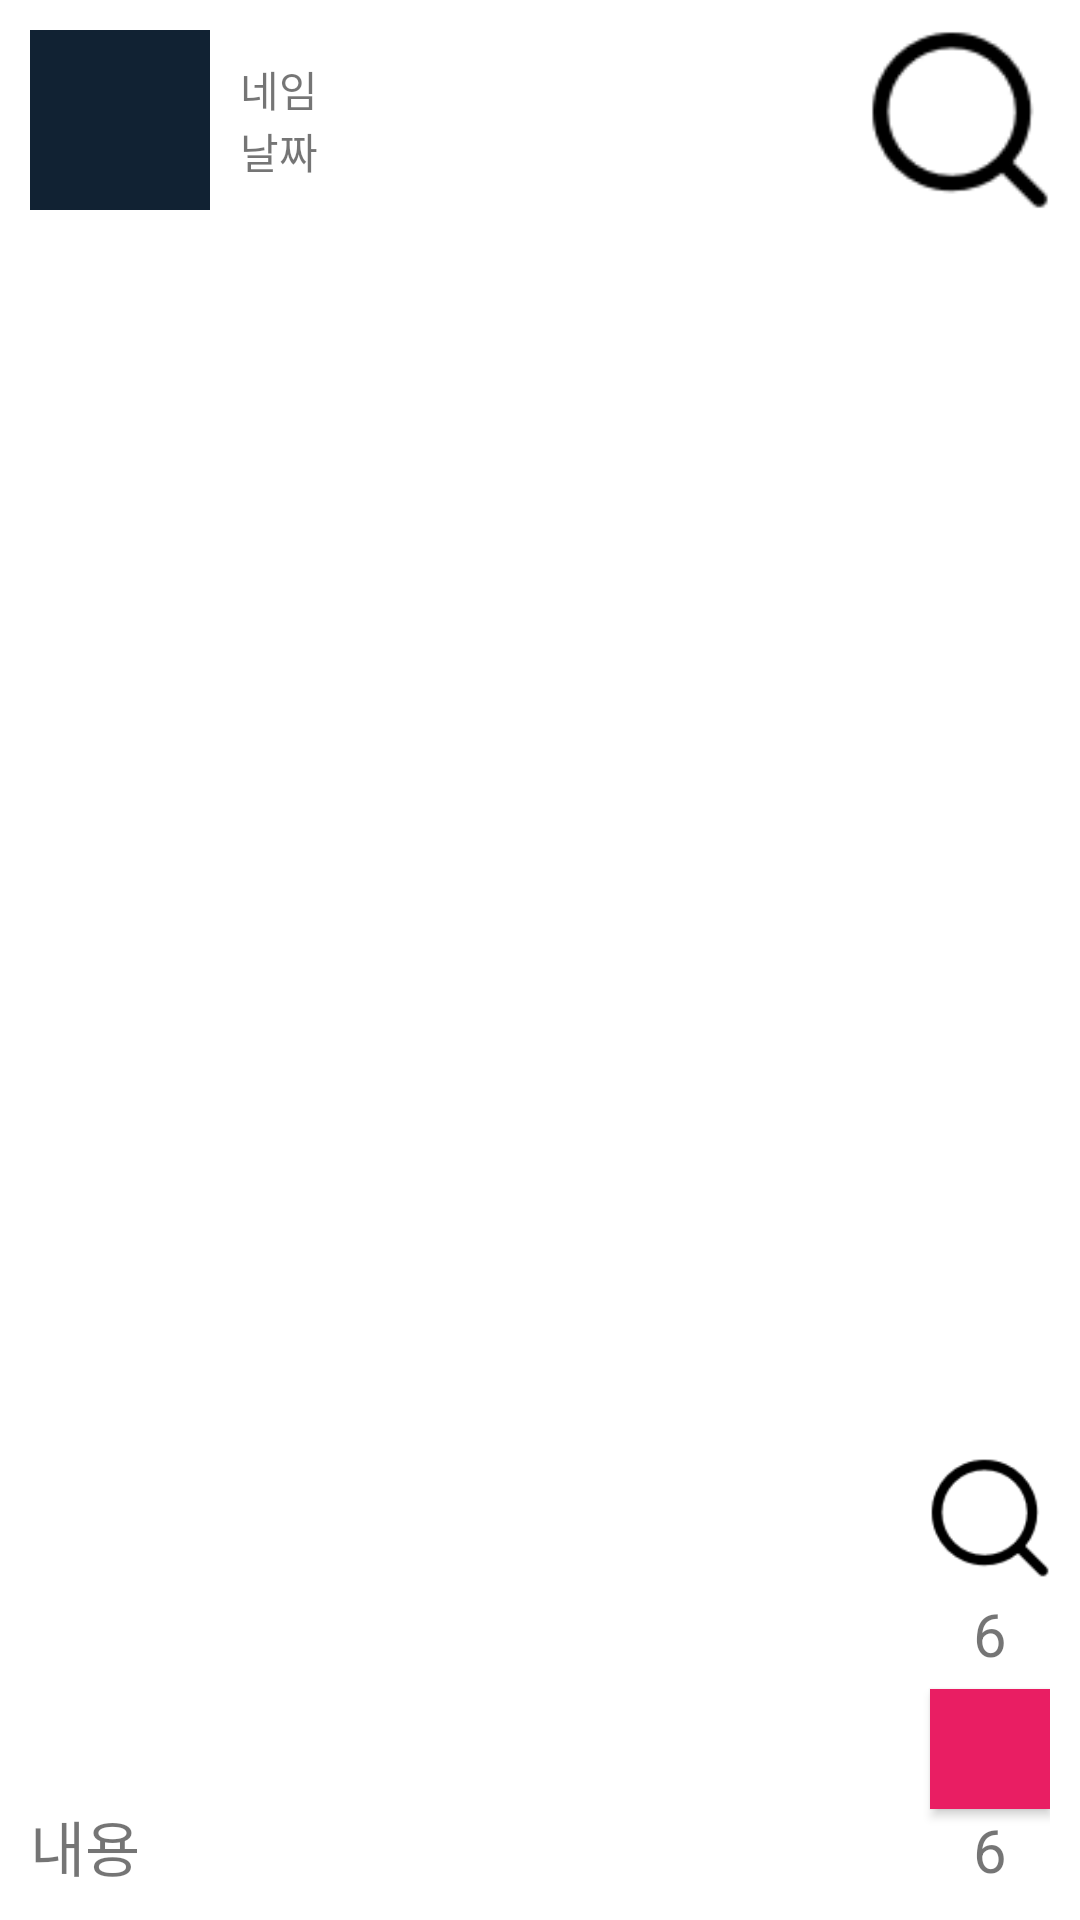

Screen size 1080w x 1920h. Icon name, then its box in pixels as (x1, y1, x2, y2):
search: (872, 32, 1048, 208), (931, 1459, 1049, 1577)
